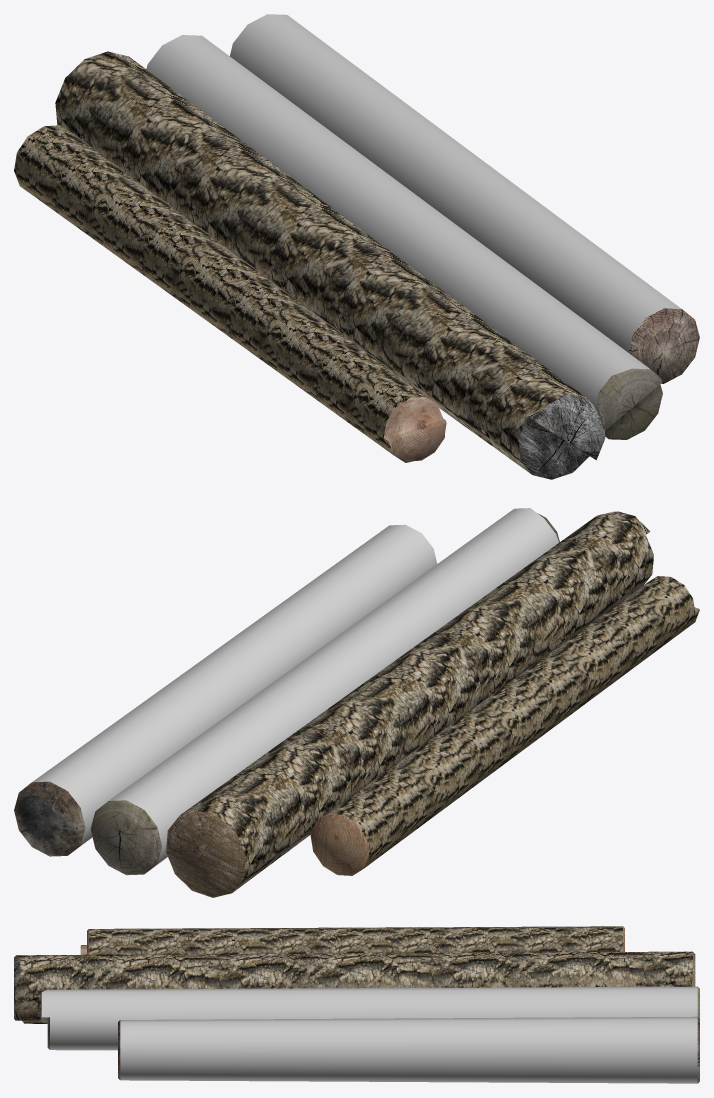
File: Logs.FBX
3 views of the same model, one above another, from view 1: azimuth 30°, elevation 25°; view 2: azimuth 150°, elevation 25°; view 3: azimuth 270°, elevation 25° (orthographic). The views are drawn at different scales.
Visible parts, largest first — view 1: log03, log02, log01, log04; view 2: log03, log02, log01, log04; view 3: log01, log03, log02, log04.
Part boxes in pixels (bbox=[...]): log03: bbox=[55, 51, 605, 479]; log02: bbox=[146, 35, 663, 439]; log01: bbox=[230, 14, 699, 383]; log04: bbox=[14, 125, 446, 462]; log03: bbox=[166, 511, 653, 897]; log02: bbox=[90, 508, 559, 875]; log01: bbox=[14, 524, 437, 856]; log04: bbox=[310, 576, 699, 875]; log01: bbox=[118, 1016, 699, 1083]; log03: bbox=[14, 951, 695, 1023]; log02: bbox=[40, 986, 699, 1050]; log04: bbox=[80, 926, 624, 954].
Bounding box in the file's own units: 23.89 × 56.55 × 6.19.
